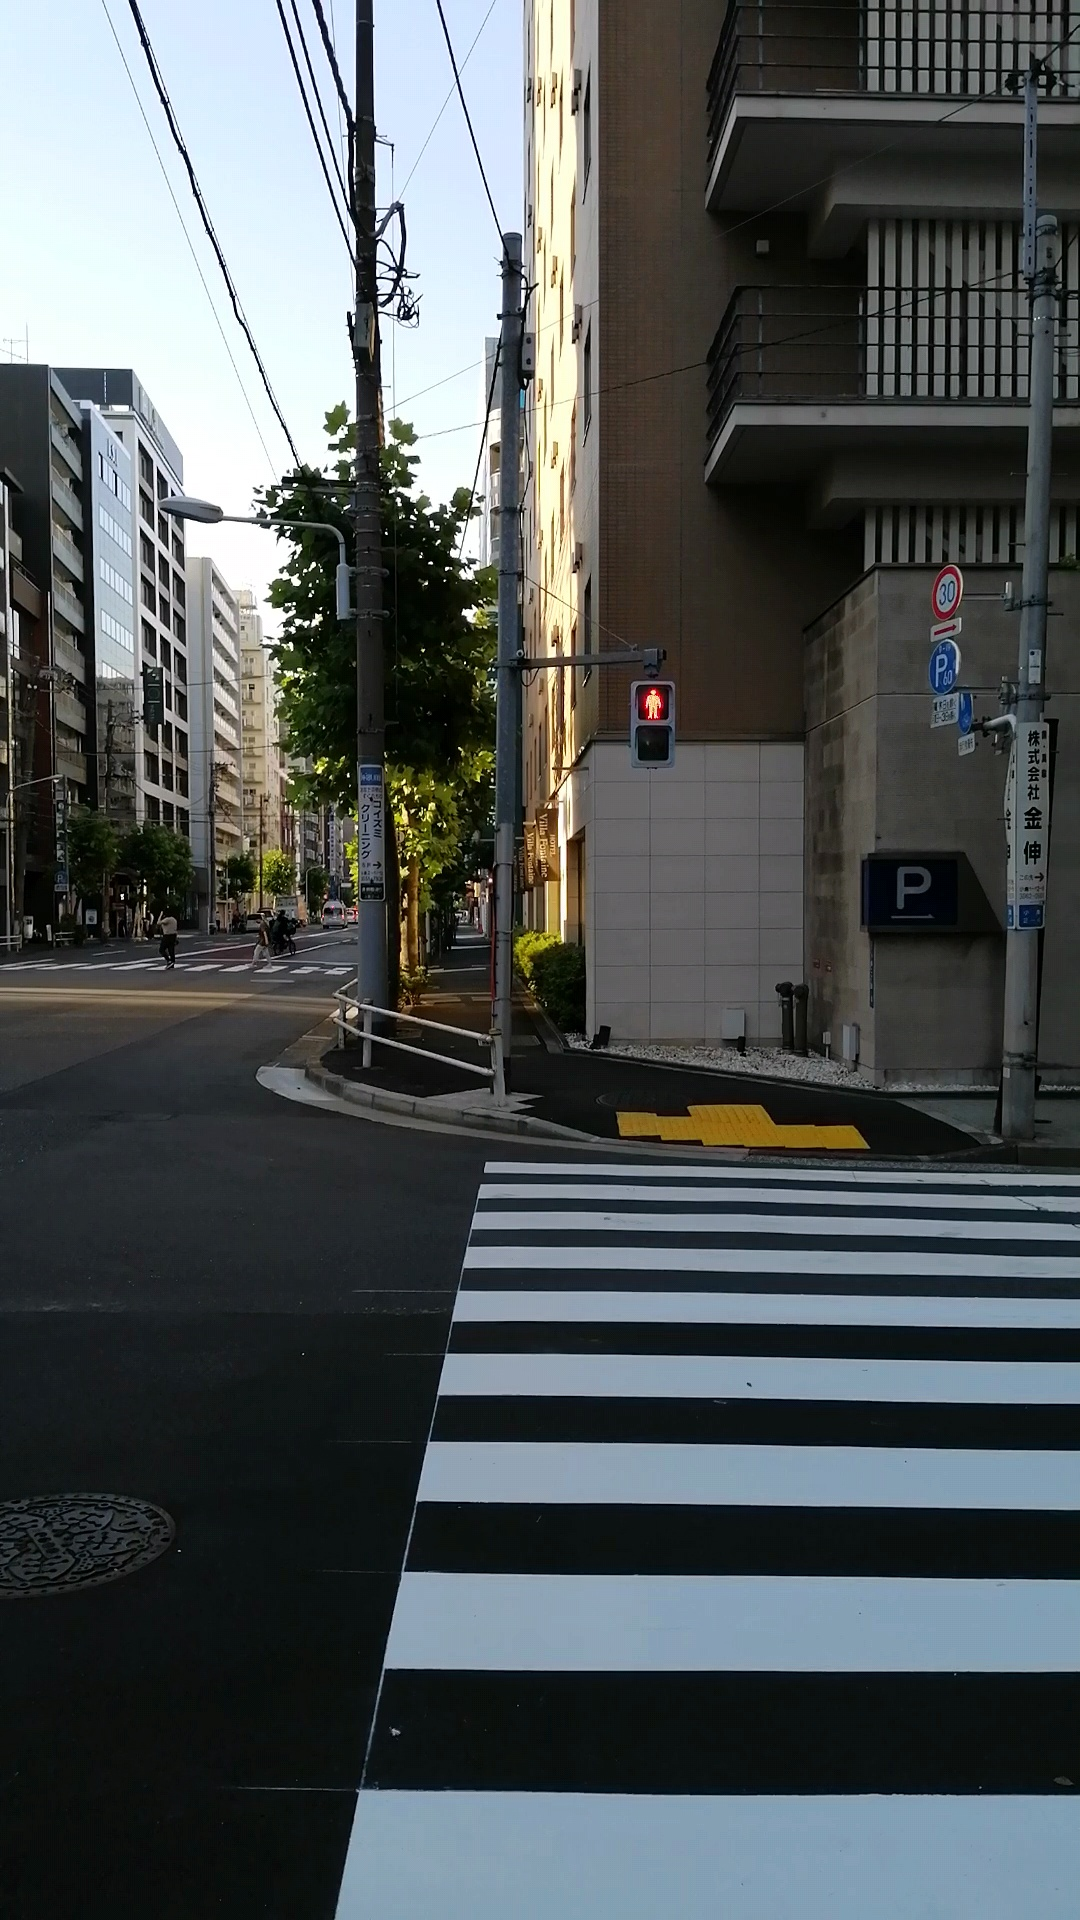red: (629, 678, 675, 771)
